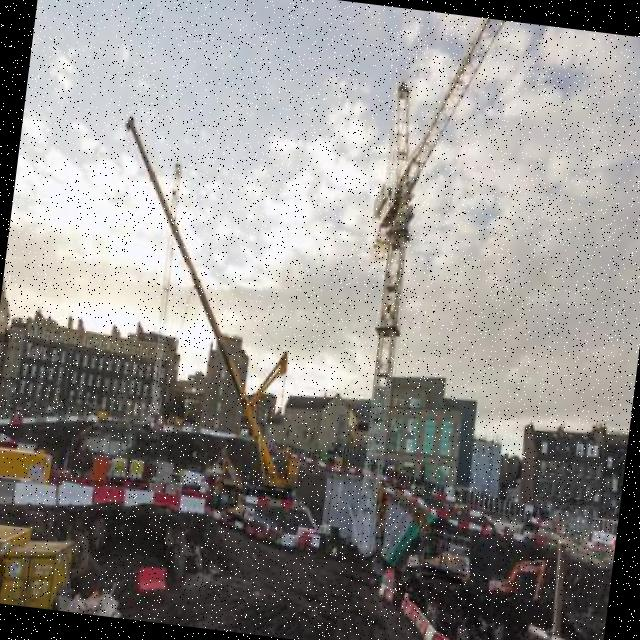Mobile Crane: (80, 116, 338, 518)
